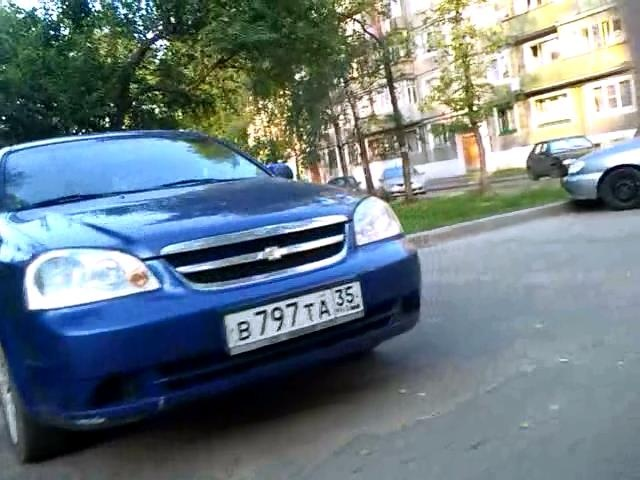car license plate: (222, 281, 368, 355)
